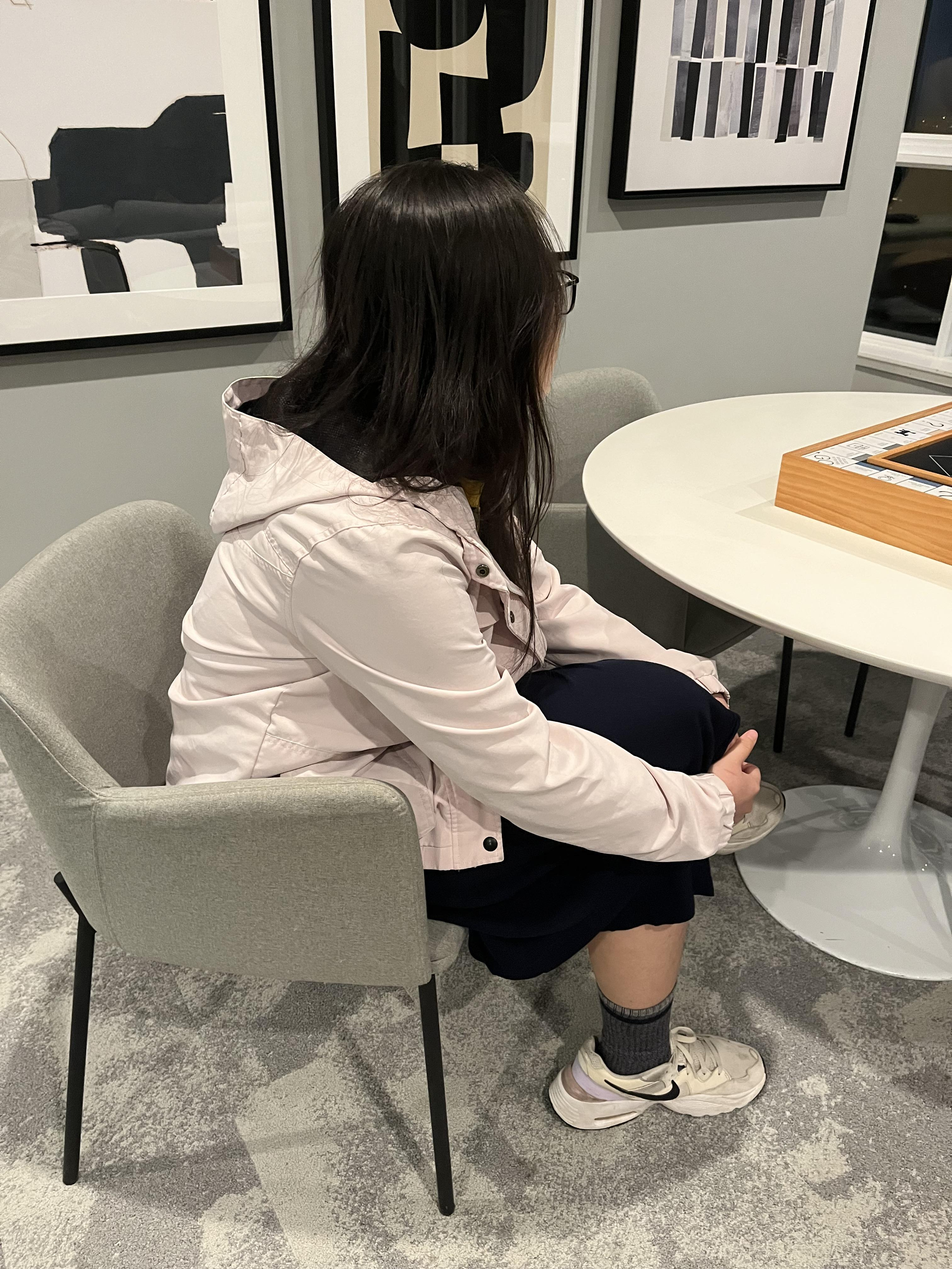BadPosture: (174, 154, 773, 1133)
